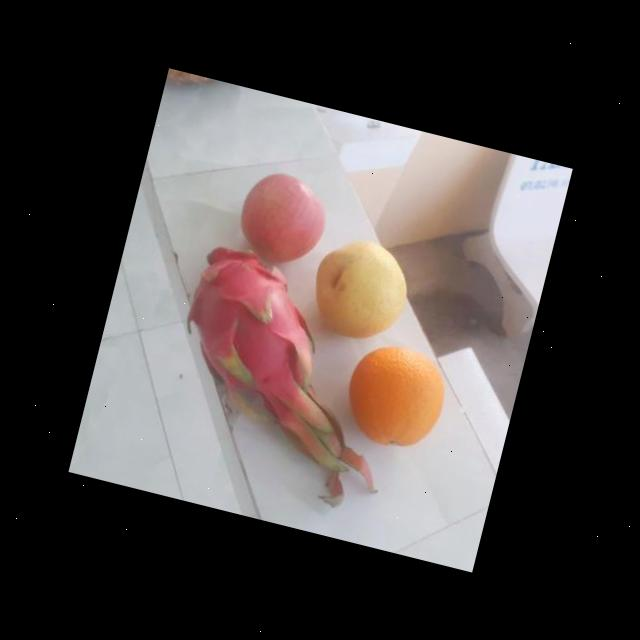apple: (227, 164, 335, 274)
orange: (334, 334, 458, 456)
pear: (299, 230, 416, 346)
pitaya: (162, 239, 336, 422)
